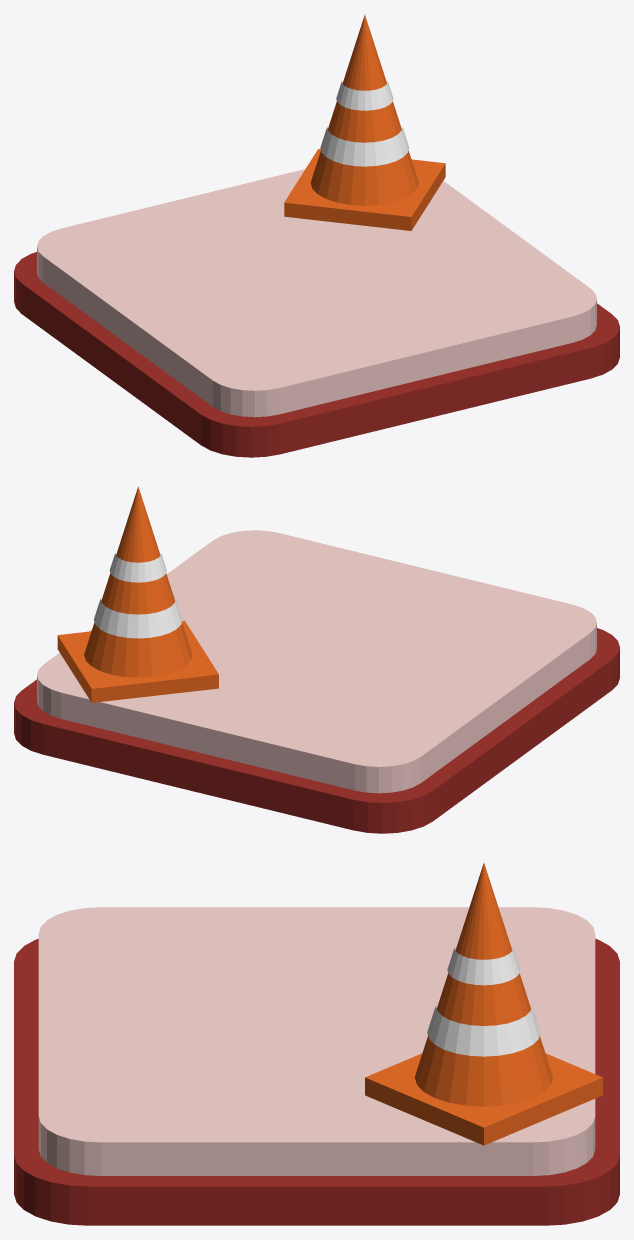
Rendered from tile_risk.glb.
3 renders of one model, top to bottom at view 1: azimuth 30°, elevation 25°; view 2: azimuth 150°, elevation 25°; view 3: azimuth 270°, elevation 25°, orthographic. The views are drawn at different scales.
Parts seen in each view (by area): view 1: base, plinth, prop_cone, prop_cone_foot, prop_stripe_0.07, prop_stripe_0.14; view 2: base, plinth, prop_cone, prop_cone_foot, prop_stripe_0.07, prop_stripe_0.14; view 3: base, plinth, prop_cone, prop_cone_foot, prop_stripe_0.07, prop_stripe_0.14.
Part boxes in pixels (x1,y1,x2,y2): base: (37,169,596,417); plinth: (14,252,619,457); prop_cone: (310,14,418,205); prop_cone_foot: (284,149,445,230); prop_stripe_0.07: (320,127,409,166); prop_stripe_0.14: (336,81,393,110); base: (37,530,596,793); plinth: (14,628,619,833); prop_cone: (84,486,192,677); prop_cone_foot: (57,620,218,702); prop_stripe_0.07: (94,599,182,638); prop_stripe_0.14: (109,553,166,582); base: (38,907,595,1175); plinth: (14,938,619,1225); prop_cone: (414,863,552,1106); prop_cone_foot: (365,1053,602,1145); prop_stripe_0.07: (427,1005,540,1056); prop_stripe_0.14: (447,948,520,985).
Bounding box in the file's own units: 0.98 × 0.546 × 0.98.
